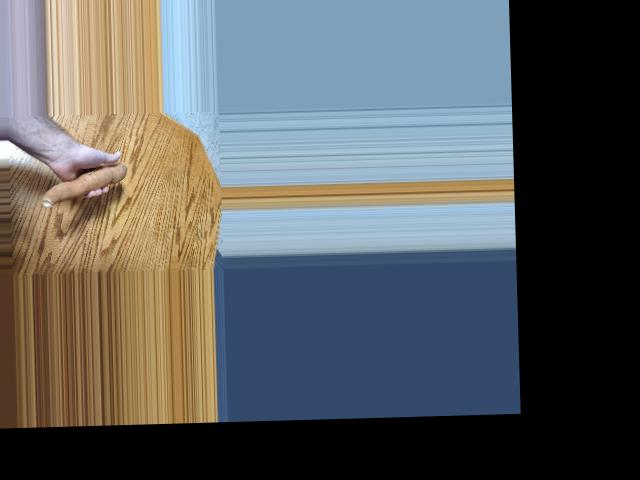sweet_potato: (38, 162, 128, 206)
